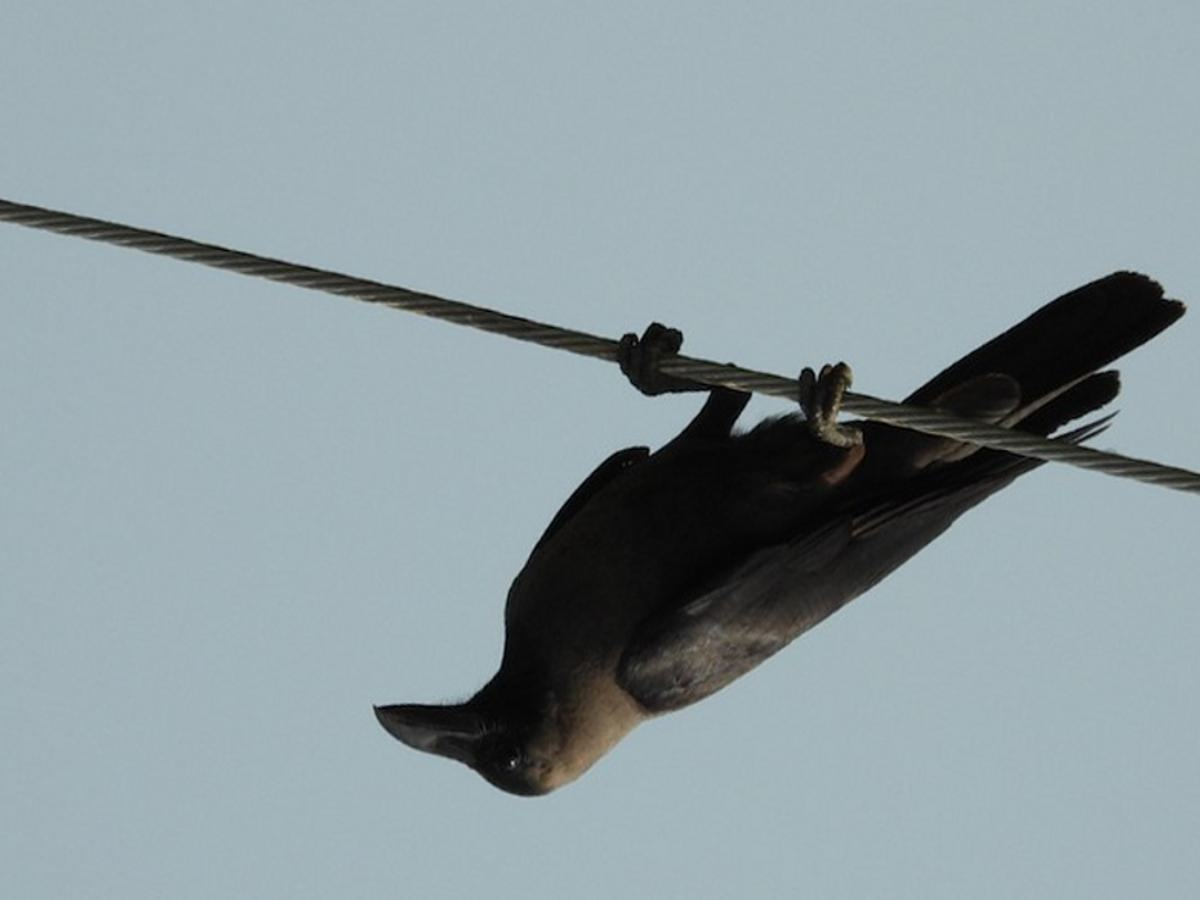crow: (361, 244, 1200, 803)
